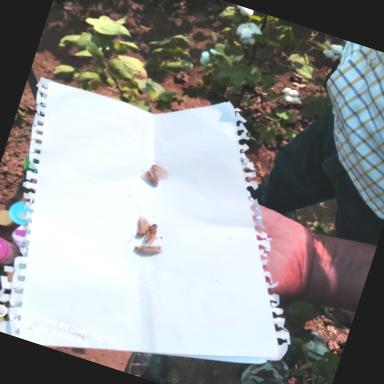abw: (131, 236, 164, 260), (137, 163, 163, 187), (146, 162, 172, 184), (140, 220, 160, 248), (130, 213, 150, 238)
